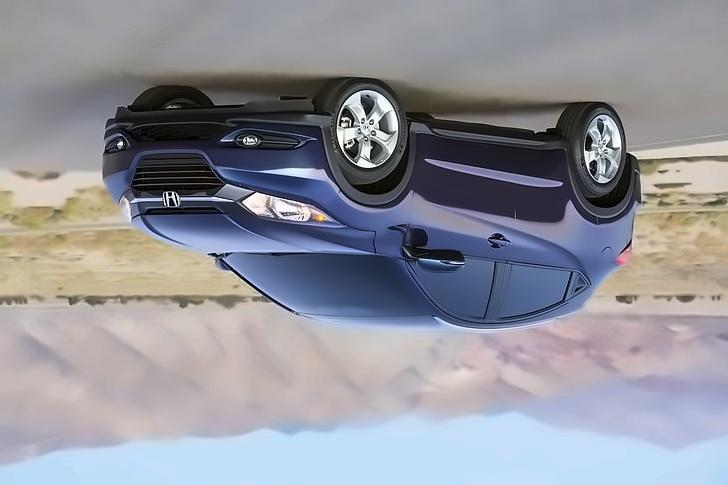Car hood: (127, 212, 386, 259)
Driver-s door - -F-R-: (399, 110, 522, 336)
Fender - -F-R-: (330, 115, 423, 254)
Fender - -R-R-: (555, 124, 638, 307)
Front bumper: (98, 102, 345, 193)
Headlight - -L-: (118, 192, 134, 229)
Headlight - -R-: (238, 189, 345, 229)
Passenger-s door - -R-R-: (477, 130, 585, 336)
Rear light - -R-: (611, 239, 635, 271)
Side bumper - -R-: (390, 103, 572, 174)
Side mirror - -R-: (399, 241, 470, 277)
